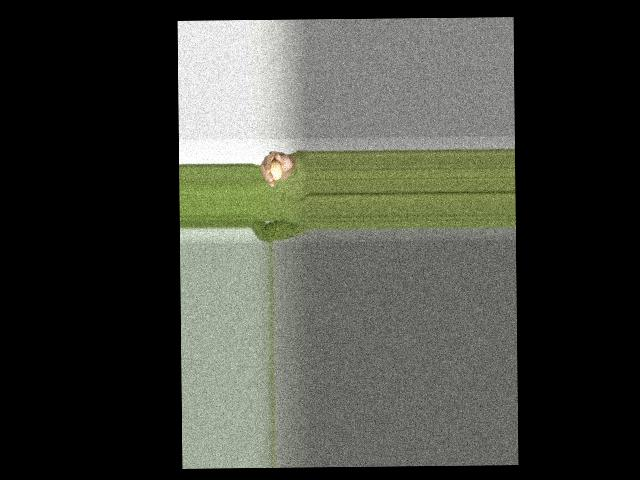egg: (269, 160, 282, 181)
